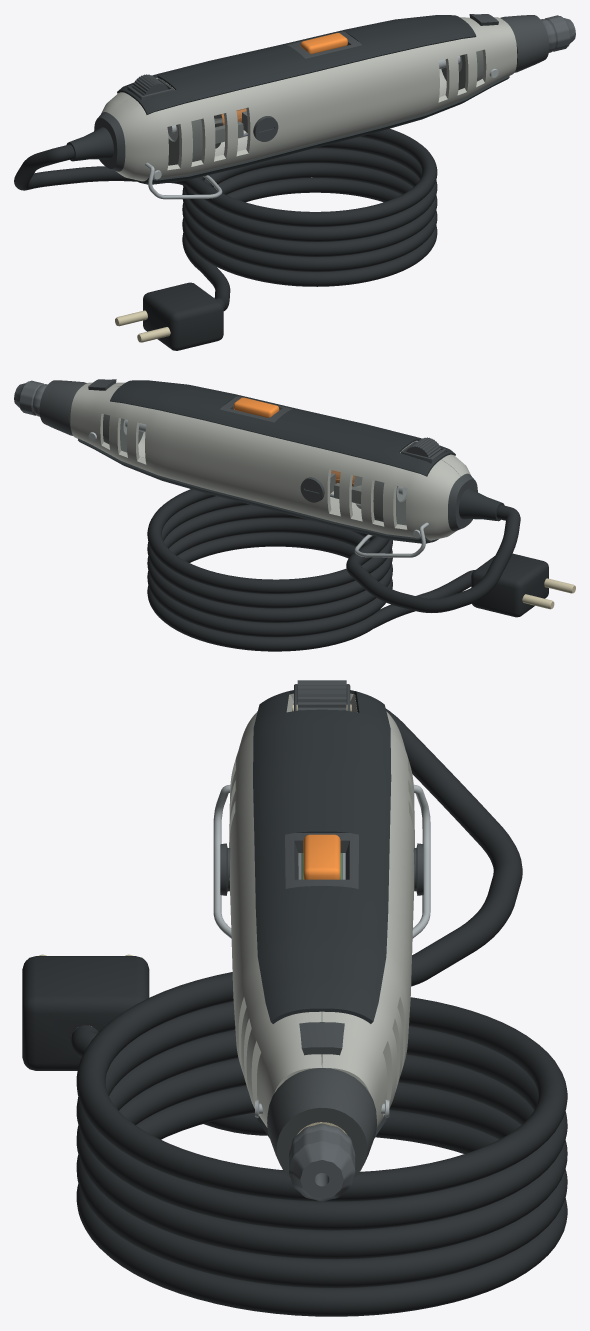
The picture shows the model from 3 angles, top to bottom: view 1: azimuth 30°, elevation 25°; view 2: azimuth 150°, elevation 25°; view 3: azimuth 270°, elevation 25°; orthographic projection. The views are drawn at different scales.
Parts seen in each view (by area): view 1: Mains_outer_jacket, Clamshell_left, Upper_grip_saddle, Mains_plug_shell, Lower_grip_saddle, Nose_collar, Flexible_strain_relief, Rear_housing_closure, Installed_chuck_collet, Clamshell_right, Rear_motor_carrier, Power_rocker (+5 smaller); view 2: Mains_outer_jacket, Clamshell_right, Upper_grip_saddle, Mains_plug_shell, Lower_grip_saddle, Nose_collar, Flexible_strain_relief, Rear_housing_closure, Installed_chuck_collet, Clamshell_left, Rear_motor_carrier, Power_rocker (+5 smaller); view 3: Mains_outer_jacket, Upper_grip_saddle, Clamshell_right, Clamshell_left, Mains_plug_shell, Nose_collar, Installed_chuck_collet, Folding_wire_hanger, Power_control_bezel, Power_rocker, Speed_thumbwheel, Shaft_lock_button.
Boxes of the visible parts, x1,y1,x2,y2 form: Mains_outer_jacket: (14,128,437,310); Clamshell_left: (112,20,517,181); Upper_grip_saddle: (117,15,476,114); Mains_plug_shell: (143,282,223,350); Lower_grip_saddle: (134,75,509,184); Nose_collar: (500,15,549,72); Flexible_strain_relief: (66,127,113,161); Rear_housing_closure: (94,112,125,171); Installed_chuck_collet: (541,15,575,52); Clamshell_right: (101,17,503,156); Rear_motor_carrier: (168,119,202,165); Power_rocker: (300,33,347,54); Mains_outer_jacket: (147,489,520,651); Clamshell_right: (70,385,460,540); Upper_grip_saddle: (110,380,455,476); Mains_plug_shell: (471,553,548,617); Lower_grip_saddle: (78,438,438,543); Nose_collar: (39,380,86,435); Flexible_strain_relief: (459,488,504,521); Rear_housing_closure: (448,473,477,531); Installed_chuck_collet: (14,380,47,416); Clamshell_left: (84,382,470,516); Rear_motor_carrier: (373,480,406,525); Power_rocker: (233,397,279,417); Mains_outer_jacket: (71,708,567,1316); Upper_grip_saddle: (253,690,391,1023); Clamshell_right: (322,693,414,1127); Clamshell_left: (229,693,321,1127); Mains_plug_shell: (22,956,149,1070); Nose_collar: (267,1068,376,1178); Installed_chuck_collet: (288,1123,355,1201); Folding_wire_hanger: (213,784,430,938); Power_control_bezel: (285,833,358,888); Power_rocker: (303,834,340,879); Speed_thumbwheel: (297,680,346,710); Shaft_lock_button: (299,1022,344,1062).
Bounding box in the file's own units: 0.2592 × 0.0978 × 0.1201.
